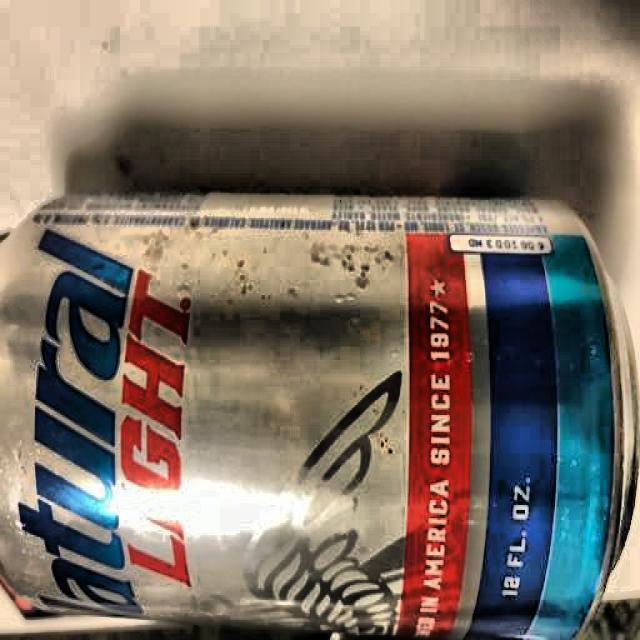metal: (0, 182, 640, 640)
